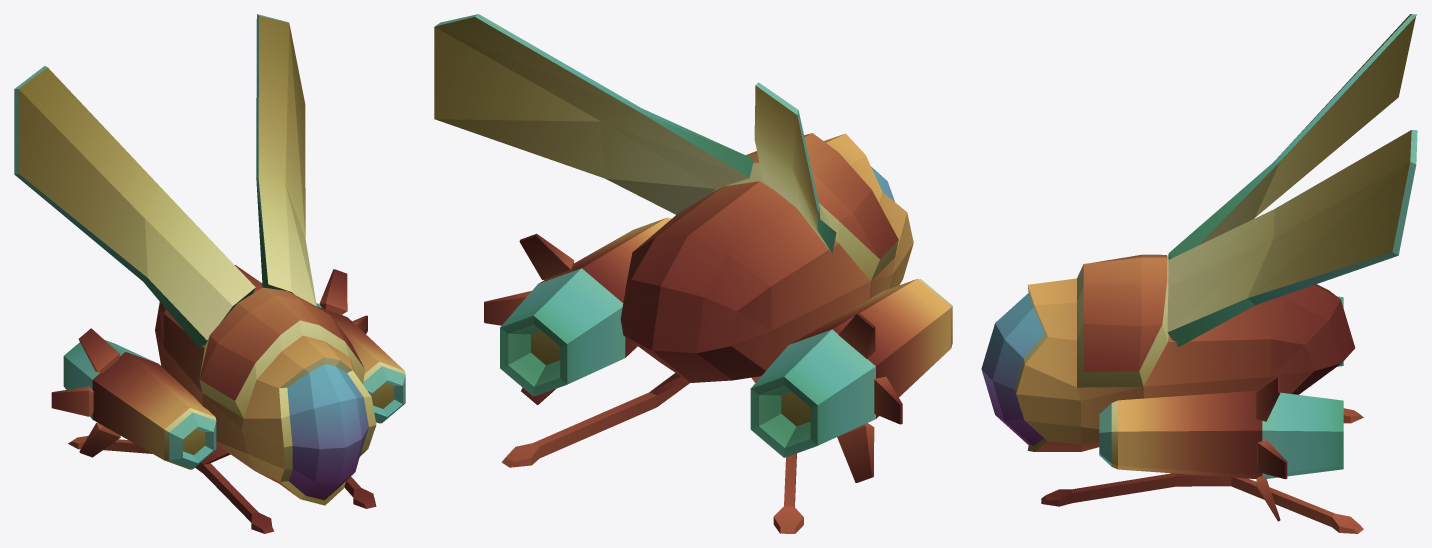
Rendered from Spaceship_skin2.FBX.
3 renders of one model, left to right at view 1: azimuth 30°, elevation 25°; view 2: azimuth 150°, elevation 25°; view 3: azimuth 270°, elevation 25°, orthographic. The views are drawn at different scales.
Parts seen in each view (by area): view 1: wing_skin2 (×2), spaceship_skin2, reactor_skin2 (×2), flaps_skin2 (×4), landing_gear_skin2 (×2); view 2: spaceship_skin2, wing_skin2 (×2), reactor_skin2 (×2), flaps_skin2 (×5), landing_gear_skin2 (×2); view 3: spaceship_skin2, wing_skin2 (×2), reactor_skin2, landing_gear_skin2, flaps_skin2 (×2).
Part boxes in pixels (bbox=[...]): wing_skin2 (×2): bbox=[14, 14, 316, 349]; spaceship_skin2: bbox=[155, 265, 376, 505]; reactor_skin2 (×2): bbox=[63, 303, 405, 469]; flaps_skin2 (×4): bbox=[51, 269, 347, 457]; landing_gear_skin2 (×2): bbox=[68, 435, 376, 533]; spaceship_skin2: bbox=[620, 133, 913, 382]; wing_skin2 (×2): bbox=[434, 14, 836, 253]; reactor_skin2 (×2): bbox=[500, 217, 952, 457]; flaps_skin2 (×5): bbox=[484, 233, 902, 482]; landing_gear_skin2 (×2): bbox=[501, 373, 803, 533]; spaceship_skin2: bbox=[981, 254, 1355, 451]; wing_skin2 (×2): bbox=[1167, 14, 1417, 346]; reactor_skin2: bbox=[1099, 390, 1343, 479]; landing_gear_skin2: bbox=[1041, 473, 1363, 533]; flaps_skin2 (×2): bbox=[1256, 377, 1287, 479].
Size of the model in its own units: 8.36 by 9.04 by 8.92.
